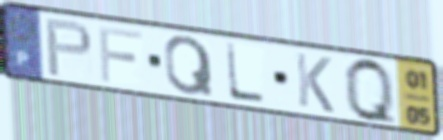F: (96, 23, 145, 85)
K: (293, 49, 336, 115)
L: (223, 40, 268, 107)
P: (43, 17, 96, 79)
Q: (341, 54, 401, 130), (161, 34, 217, 99)
